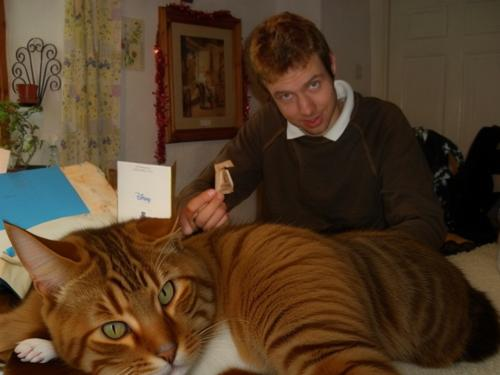cat: (3, 216, 500, 375)
person: (177, 15, 445, 283)
person/hand: (265, 220, 322, 278), (181, 188, 228, 240)
person/head: (250, 12, 337, 135)
pottedplant: (1, 100, 43, 174)
